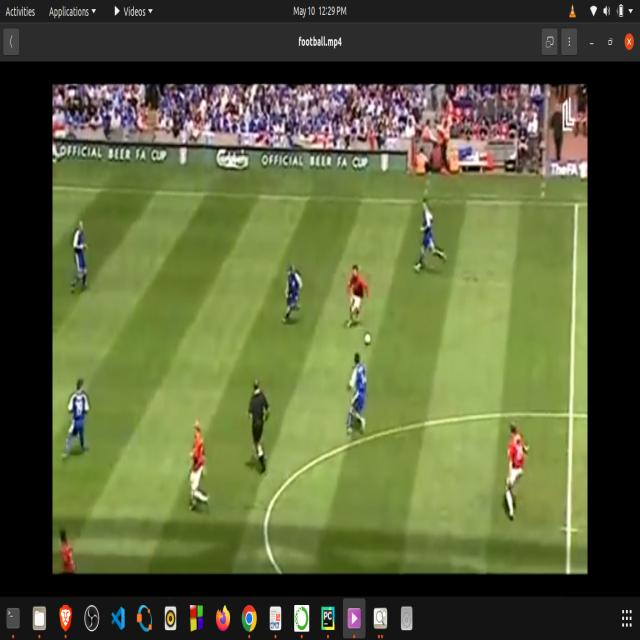Ball: (364, 333, 372, 345)
Refree: (250, 372, 278, 478)
football-players: (59, 374, 102, 469), (181, 419, 220, 514), (412, 195, 451, 276), (501, 418, 531, 519), (274, 258, 310, 327), (69, 220, 98, 300), (345, 344, 368, 442), (53, 531, 90, 574), (348, 255, 364, 324)
